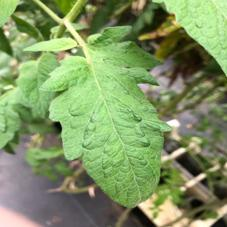Healthy: (25, 33, 173, 210)
